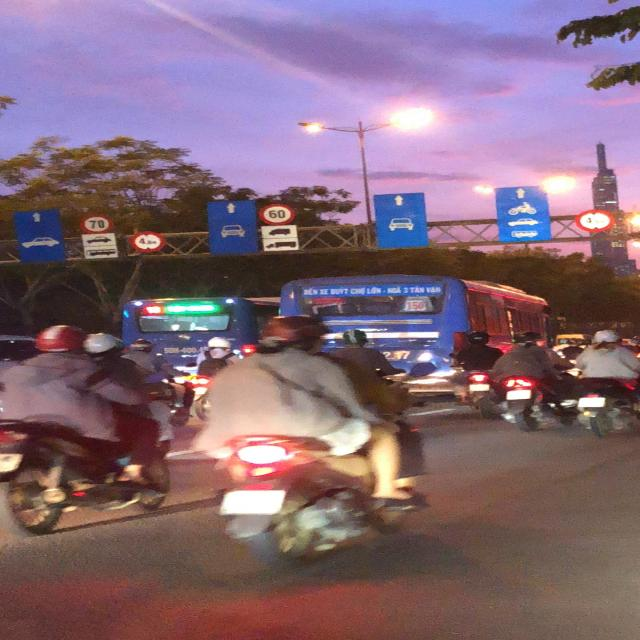Bien bao han che chieu cao: (573, 206, 615, 233), (129, 229, 169, 254)
Bien bao toc do toi da cho phep: (255, 202, 300, 226), (79, 212, 116, 235)
